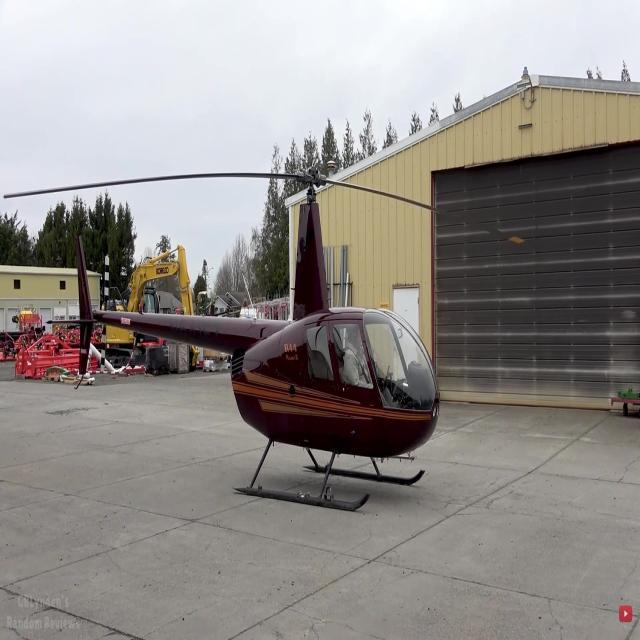CIV_HELO: (44, 171, 440, 515)
